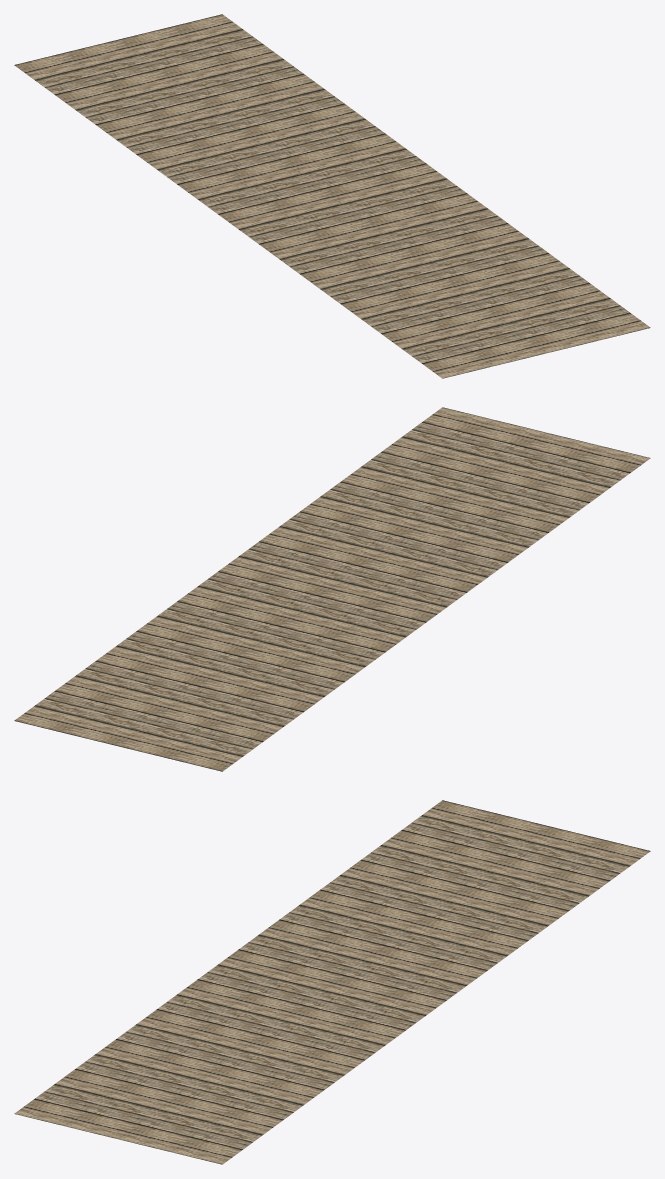
File: LAKETOWN_WAREHOUSE2_PS_WH2_EXIT_ROOF939384.fbx
The picture shows the model from 3 angles, top to bottom: view 1: azimuth 30°, elevation 25°; view 2: azimuth 150°, elevation 25°; view 3: azimuth 330°, elevation 25°; orthographic projection.
Parts seen in each view (by area): view 1: LAKETOWN_WAREHOUSE2_PS_WH2_EXIT_ROOF939384; view 2: LAKETOWN_WAREHOUSE2_PS_WH2_EXIT_ROOF939384; view 3: LAKETOWN_WAREHOUSE2_PS_WH2_EXIT_ROOF939384.
Boxes of the visible parts, <box> form: LAKETOWN_WAREHOUSE2_PS_WH2_EXIT_ROOF939384: <box>14,14,650,378</box>; LAKETOWN_WAREHOUSE2_PS_WH2_EXIT_ROOF939384: <box>14,407,650,771</box>; LAKETOWN_WAREHOUSE2_PS_WH2_EXIT_ROOF939384: <box>14,800,650,1164</box>.
Bounding box in the file's own units: 78350 × 0.0454 × 278906.
1 material, 1 textured.
